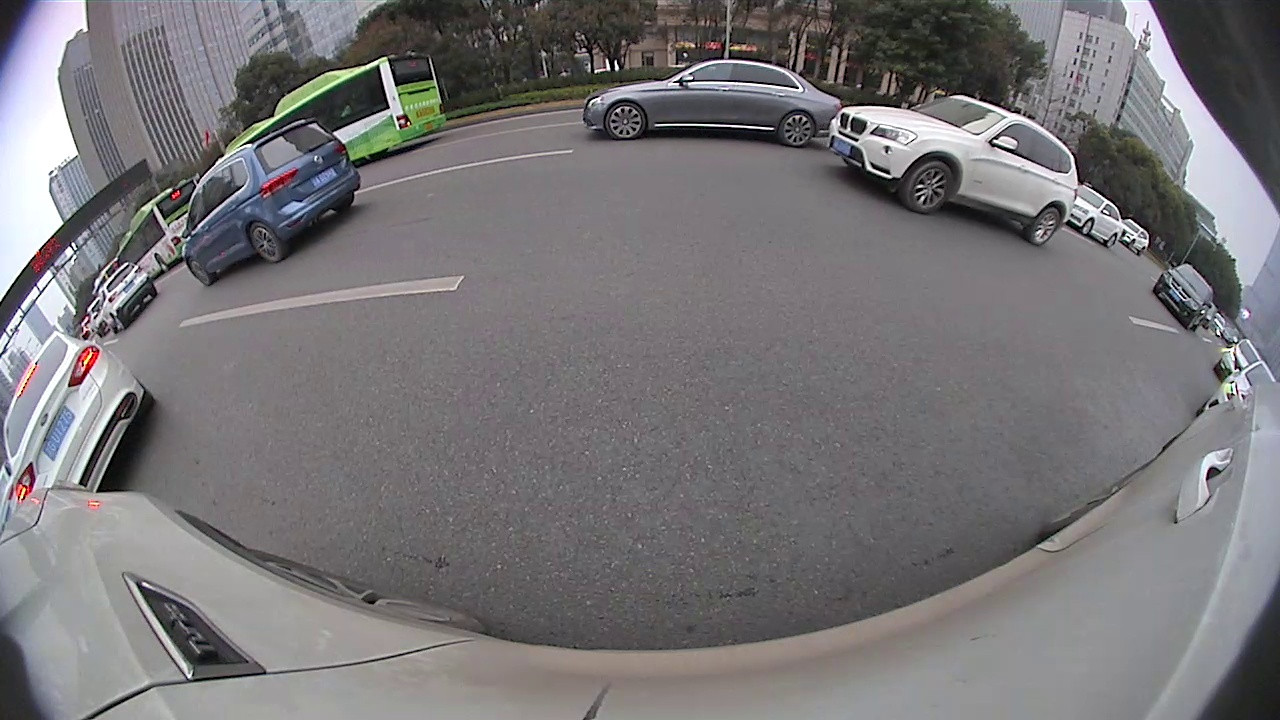bus: (220, 48, 451, 170)
car: (822, 90, 1078, 251), (179, 113, 362, 287), (579, 56, 847, 156), (5, 326, 159, 498), (1066, 181, 1127, 251), (1155, 260, 1214, 330)
front: (903, 157, 955, 217), (603, 101, 645, 140), (188, 257, 212, 288)
rear: (249, 222, 285, 264), (779, 109, 816, 148), (1028, 206, 1062, 246)
